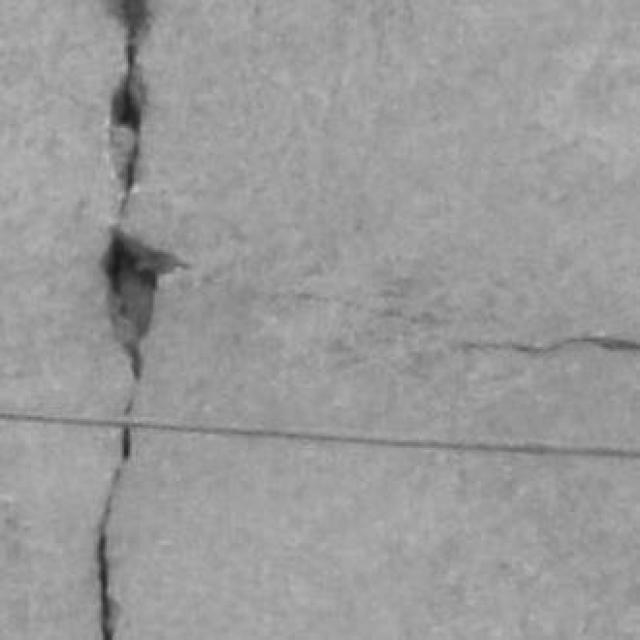crack: (103, 227, 186, 415), (103, 227, 188, 380), (107, 0, 149, 217), (96, 454, 127, 639), (458, 336, 639, 356)
